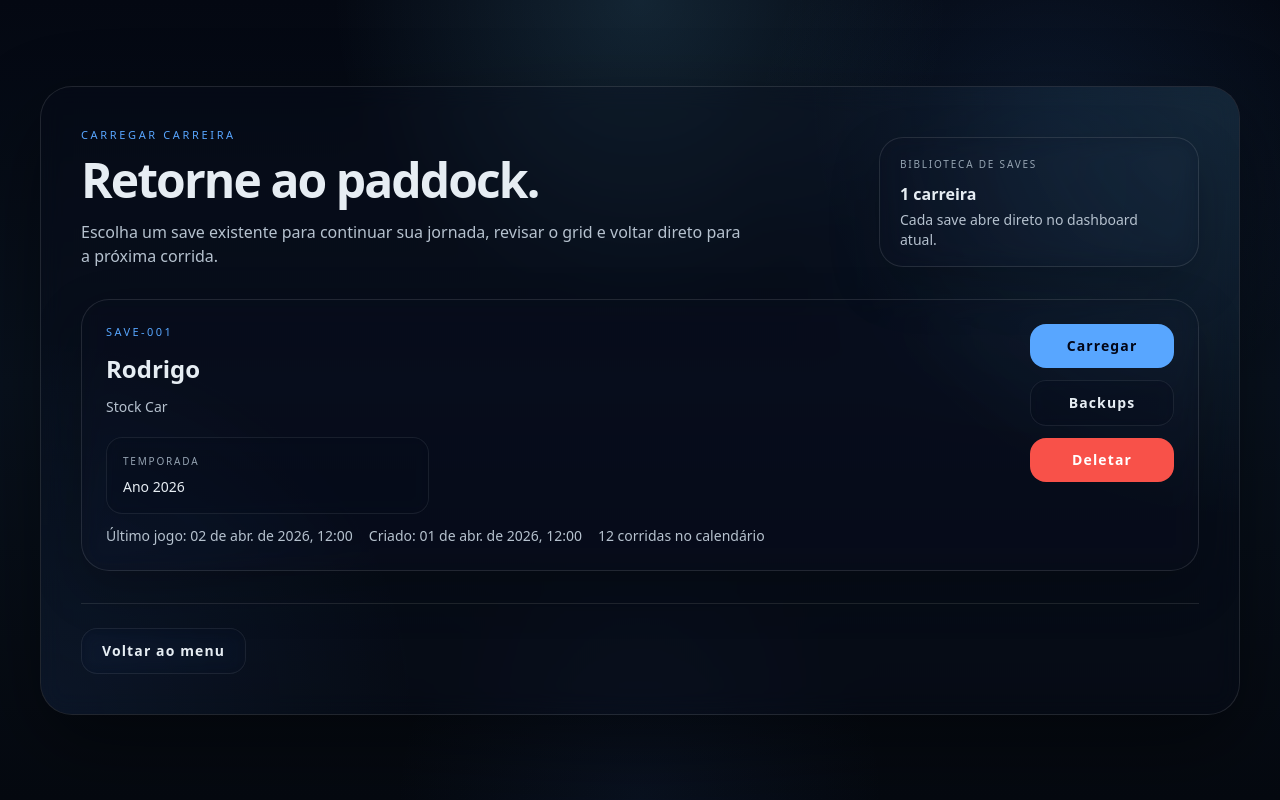
Test case: LoadSave › lists the career backups and only restores after an explicit confirmation
Expected: the heading "Rodrigo" is shown, [106,352,200,384]
Click the button "Backups": (1102, 403) [1030,380,1174,426]
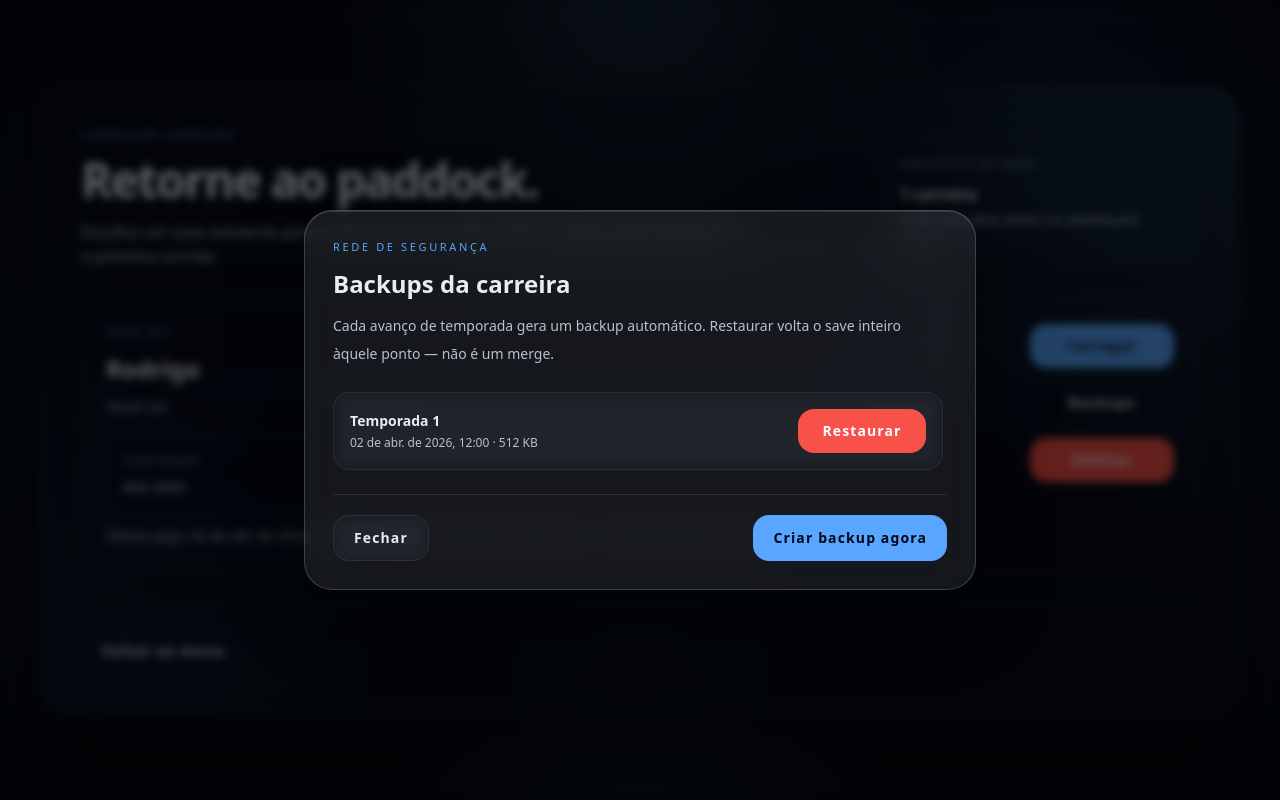
Expected: the text "Temporada 1" is shown, [350,411,440,430]
Expected: the text "02 de abr. de 2026, 12:00 · 512 KB" is shown, [350,435,538,451]
Click the button "Restaurar": (862, 431) [798,409,926,453]
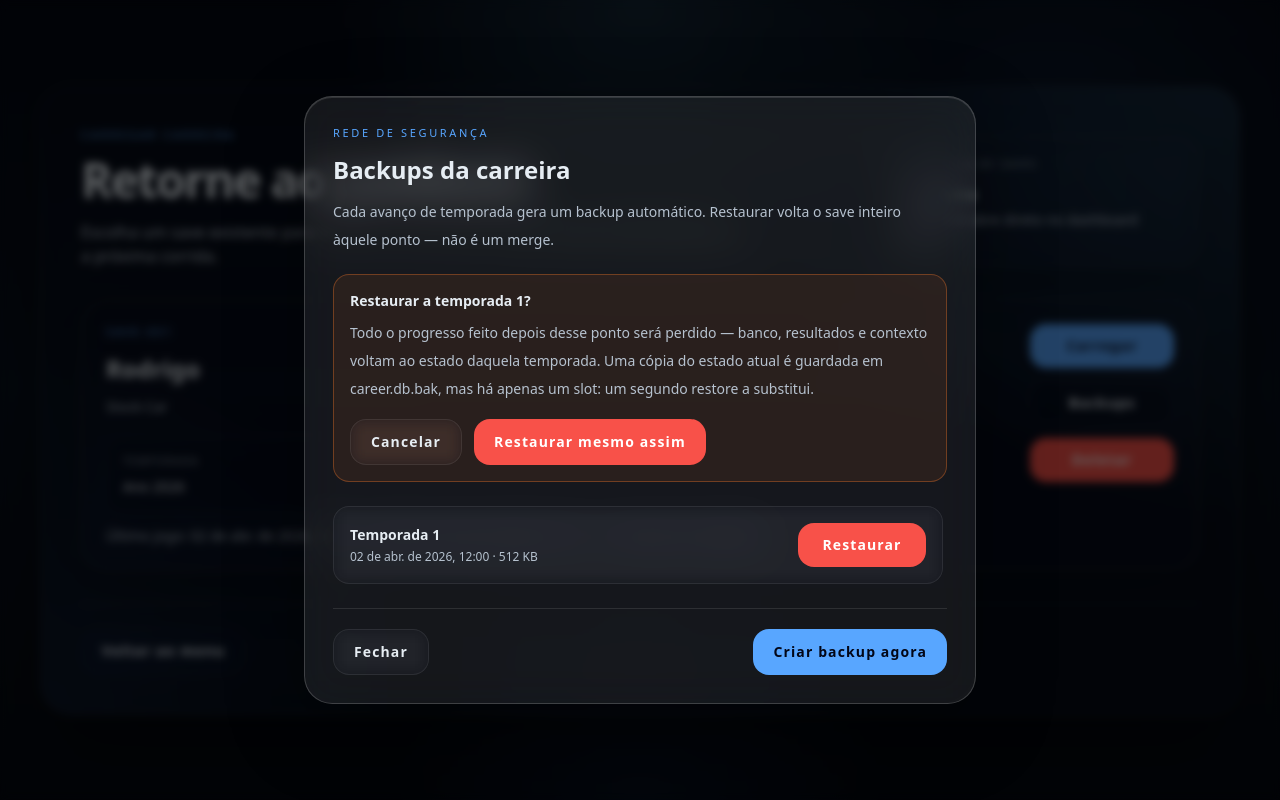
Expected: the element with test id "backup-confirm" is shown, [333,274,947,482]
Expected: the text "Todo o progresso feito depois desse ponto será perdido" is shown, [350,323,927,398]
Click the button "Restaurar mesmo assim": (590, 442) [474,419,706,465]
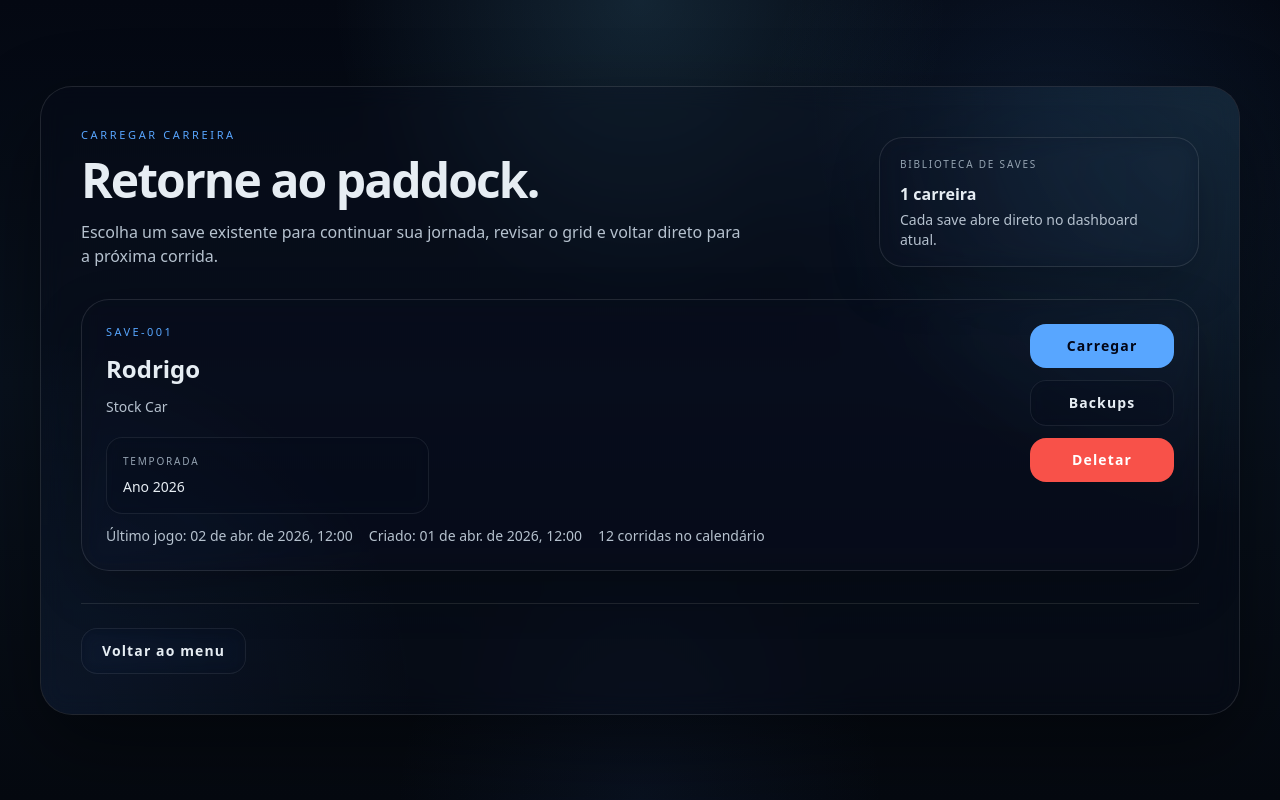
Expected: the element with test id "backup-confirm" is gone
